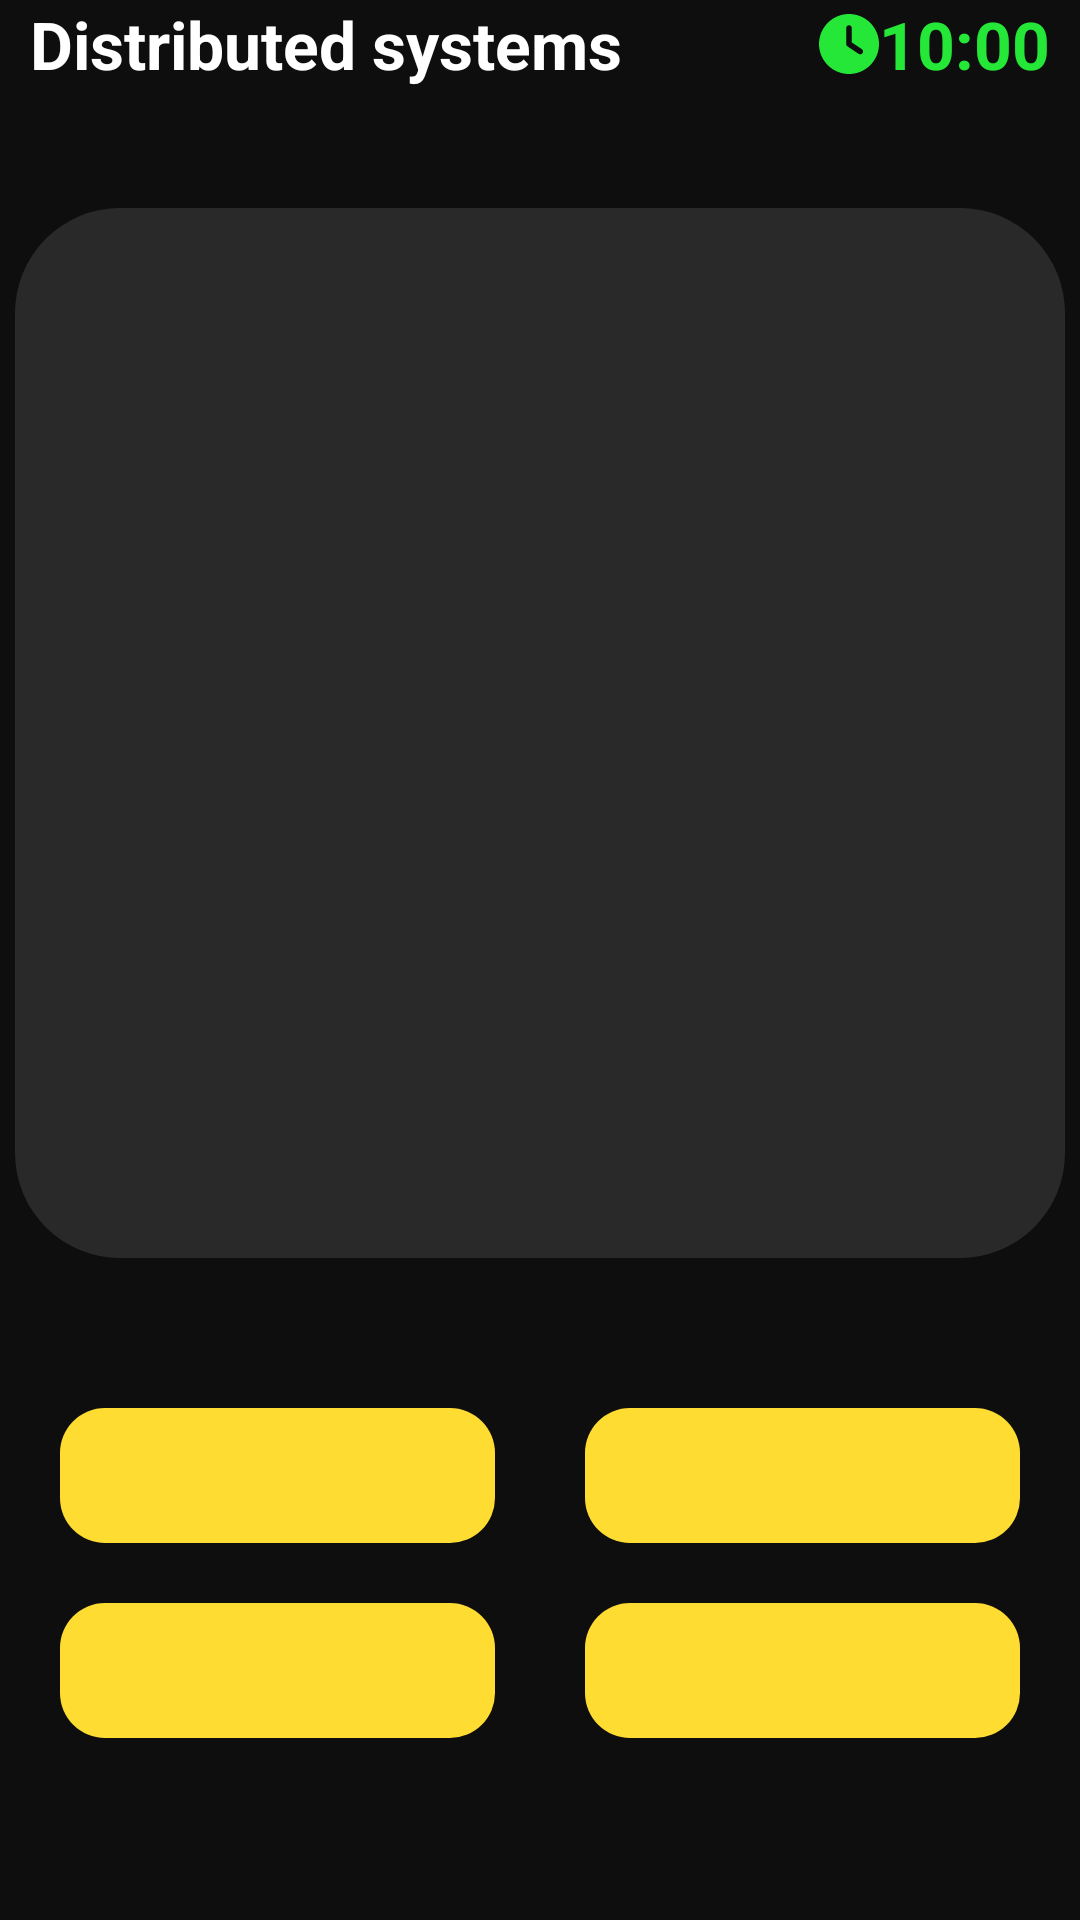

Screen size 1080w x 1920h. Icon name, then its box in pixels as detection(x1, y1, x2, y2):
clock: detection(819, 14, 879, 74)
